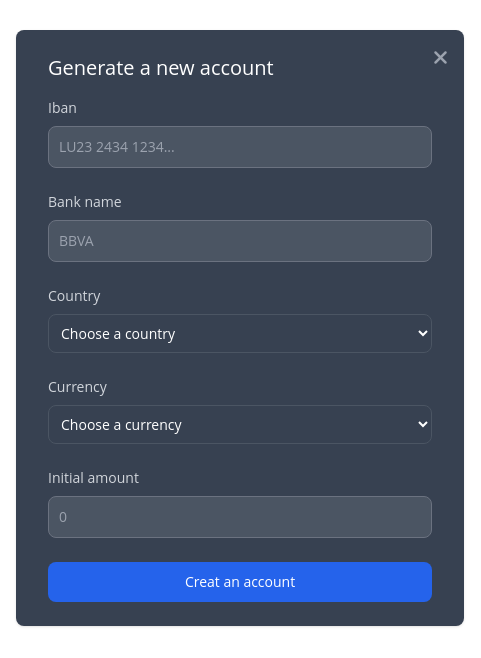
Test case: iban error
Check: the heading "Generate a new account" is shown, box x1=48 y1=54 x2=274 y2=81
Type "23" into the field with placeholder "LU23 2434 1234..." at x=240, y=147, box x1=48 y1=126 x2=432 y2=168
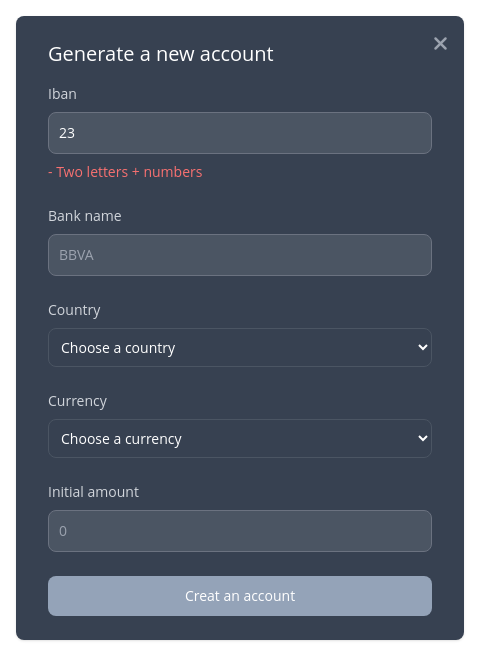
Check: the text "- Two letters + numbers" is shown, box x1=48 y1=162 x2=202 y2=181
Replace the text in the field with placeholder "LU23 2434 1234..." with "BR15000000000000109328408142" at x=240, y=133, box x1=48 y1=112 x2=432 y2=154
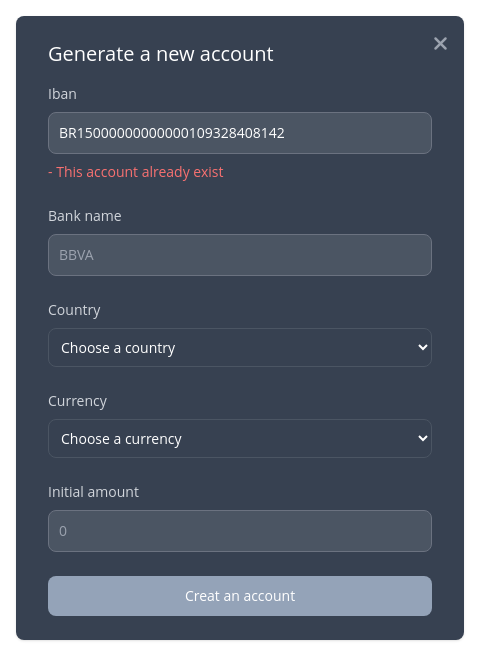
Check: the text "- This account already exist" is shown, box x1=48 y1=162 x2=223 y2=181
